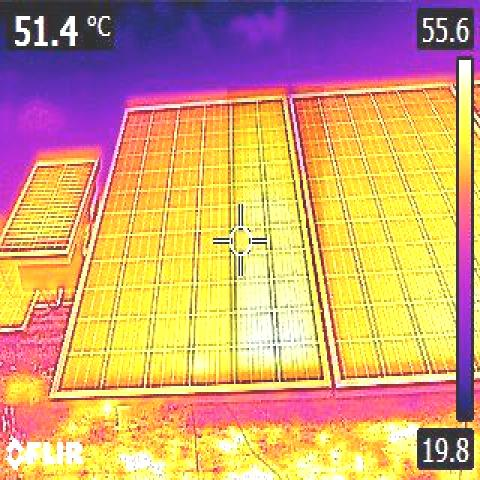fault: (227, 86, 324, 390)
